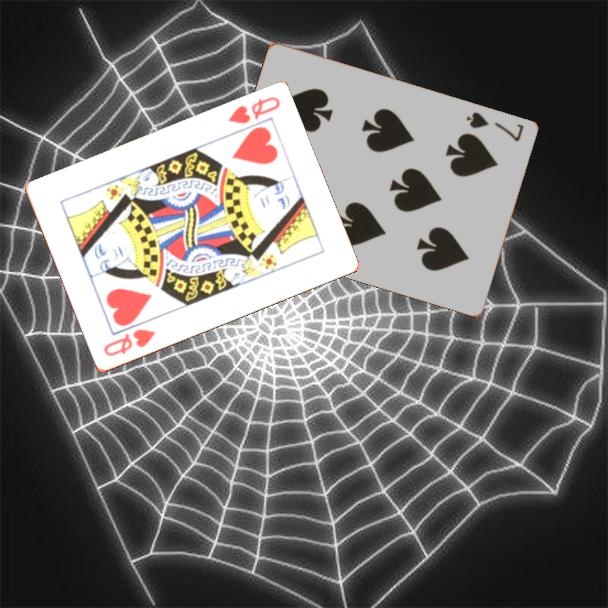h12: (224, 93, 283, 127), (100, 326, 158, 360)
s07: (463, 108, 527, 145)
